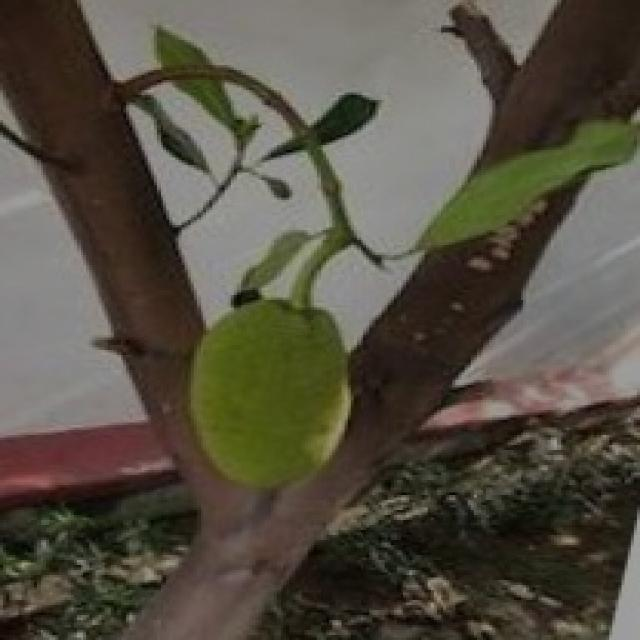Fruit: (157, 272, 381, 512)
